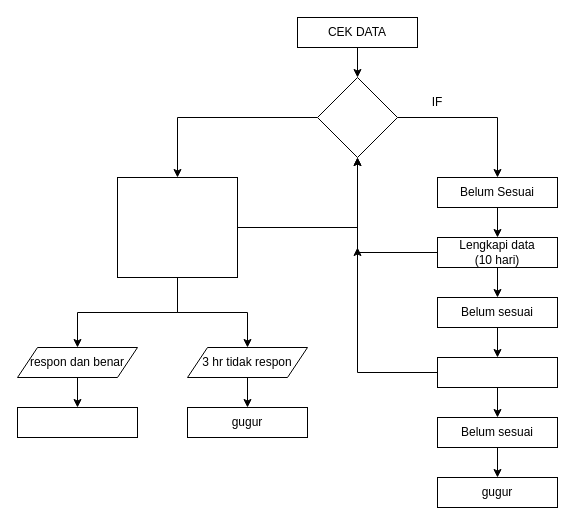
This 575x525 diagram has some shape labels left out. The shapes that lost their labels are listed below. From the top down, each one's centre as x and y in pixels, then its label:
At (357,117): "SUDAH SESUAI".
At (177,227): "validasi (phone/wa) (nm,tgl,jam,ket)".
At (497,372): "+ 10 hari".
At (77,422): "proses penanganan".
